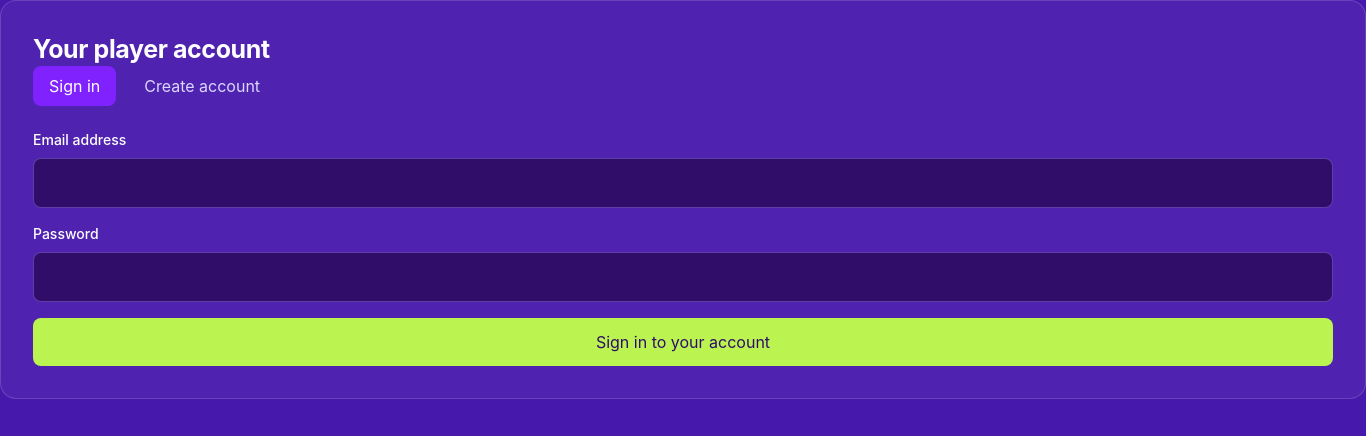
Scenario: account panel › keeps sign-in failures generic and permits retry
The image size is (1366, 436).
Check: the button "Sign in to your account" is shown, box [33,318,1333,366]
Step 1. Type "player@example.test" into the field labelled "Email address" → point(683, 182), box [33,158,1333,208]
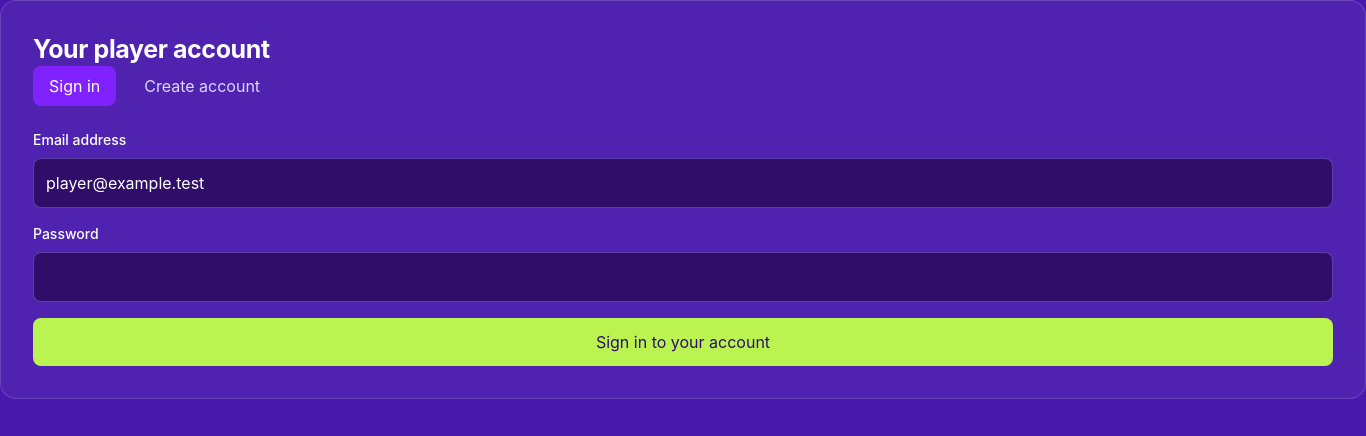
Step 2. Type "a-long-demo-password" into the password field labelled "Password" → point(683, 276), box [33,252,1333,302]
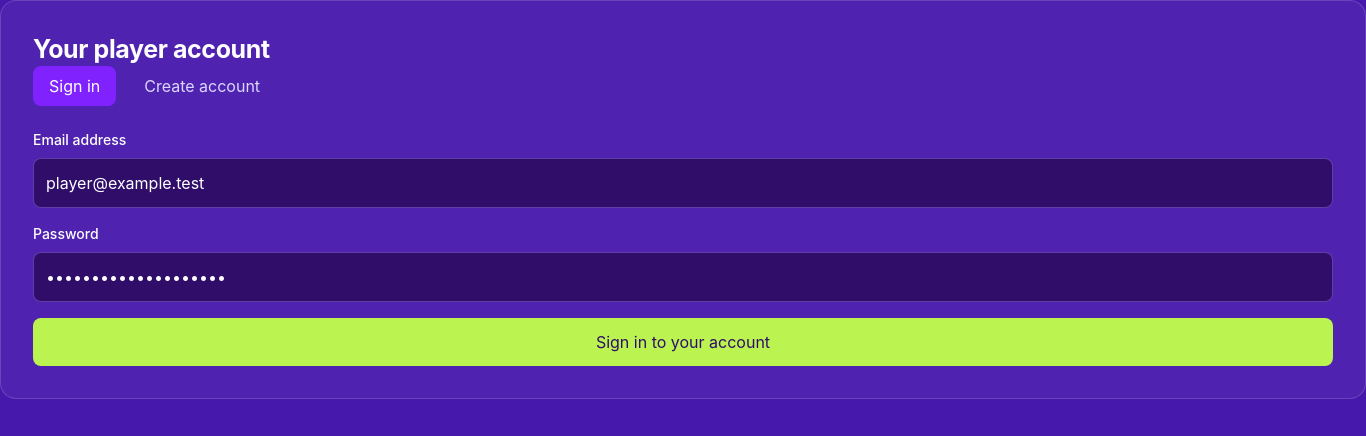
Step 3. Click the button "Sign in to your account" → point(683, 342), box [33,318,1333,366]
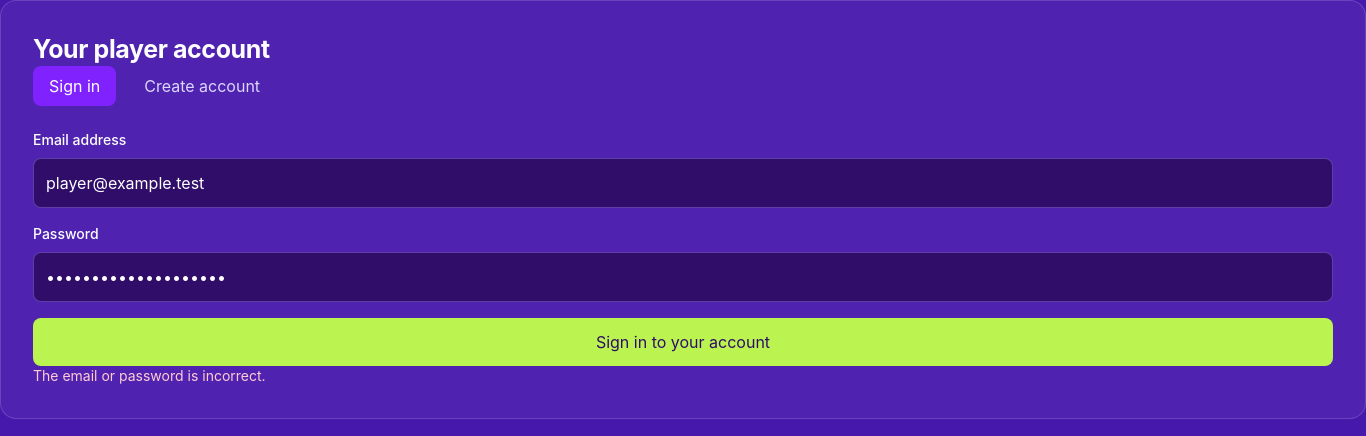
Check: the message reads "The email or password is incorrect.", box [33,366,266,384]
Step 4. Click the button "Sign in to your account" → point(683, 342), box [33,318,1333,366]
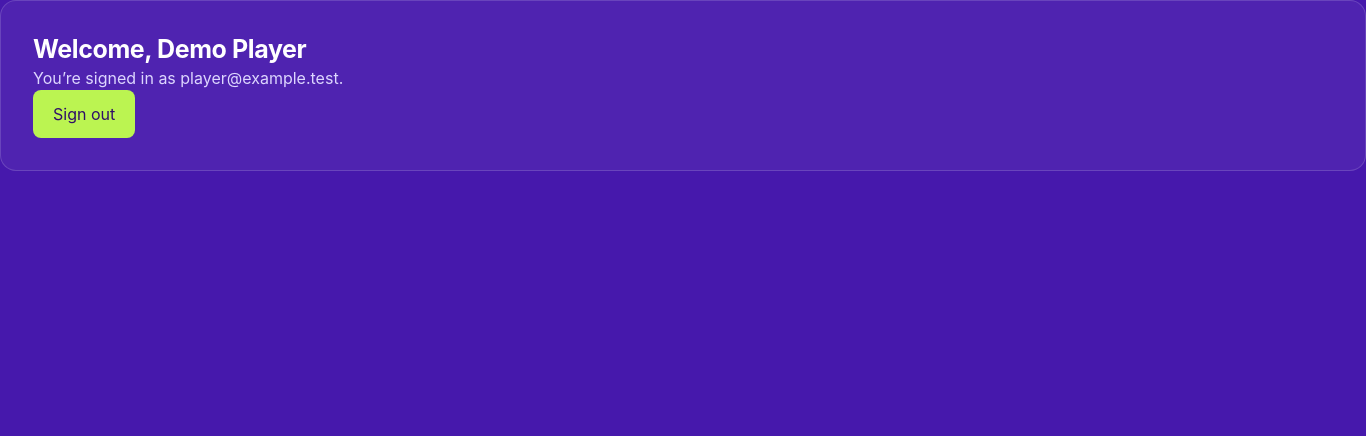
Check: the heading "Welcome, Demo Player" is shown, box [33,34,306,64]
